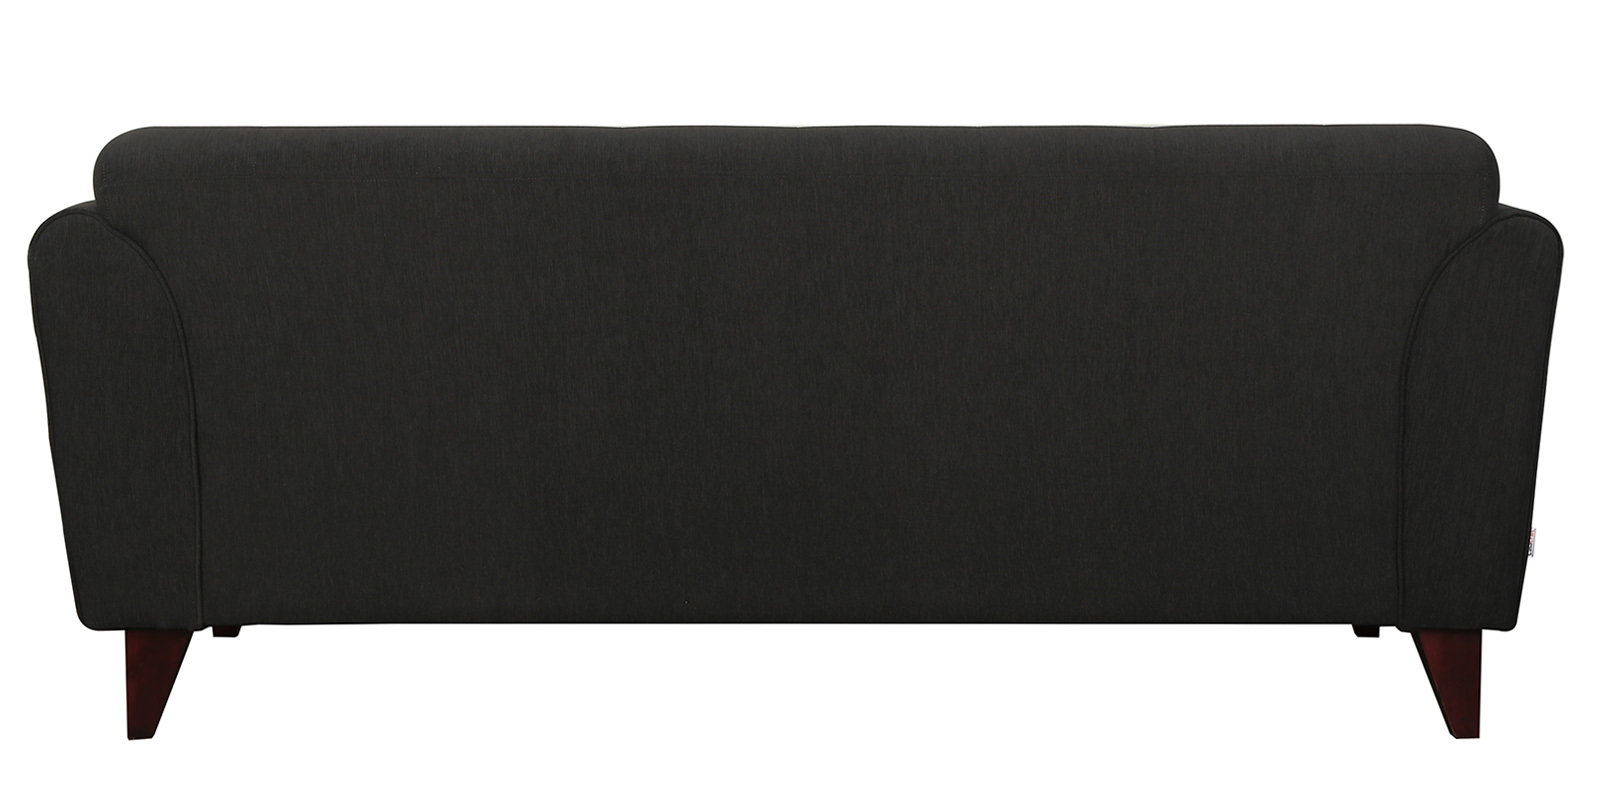Belem Three Seater Sofa in Charcoal Grey Color by CasaCraft: (26, 112, 1585, 700)
